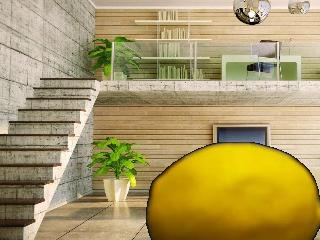lemon: (149, 142, 318, 240)
